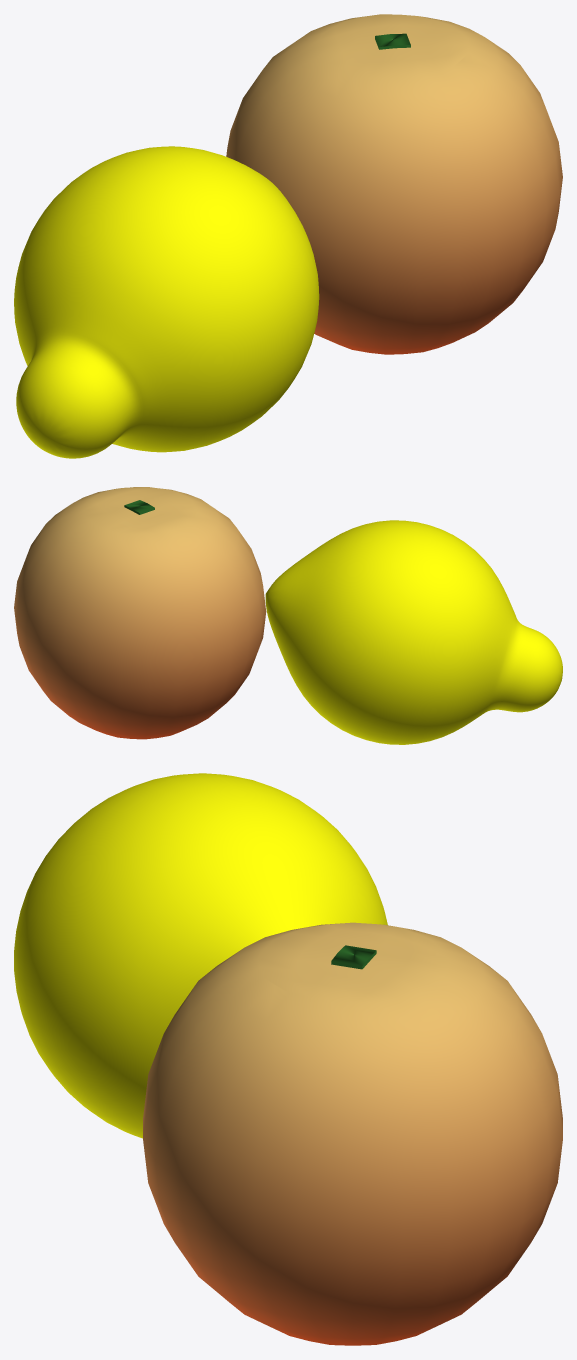
File: orange34.glb
The picture shows the model from 3 angles, top to bottom: view 1: azimuth 30°, elevation 25°; view 2: azimuth 150°, elevation 25°; view 3: azimuth 270°, elevation 25°; orthographic projection. The views are drawn at different scales.
Bounding box in the file's own units: 0.6304 × 0.2955 × 0.3932.
